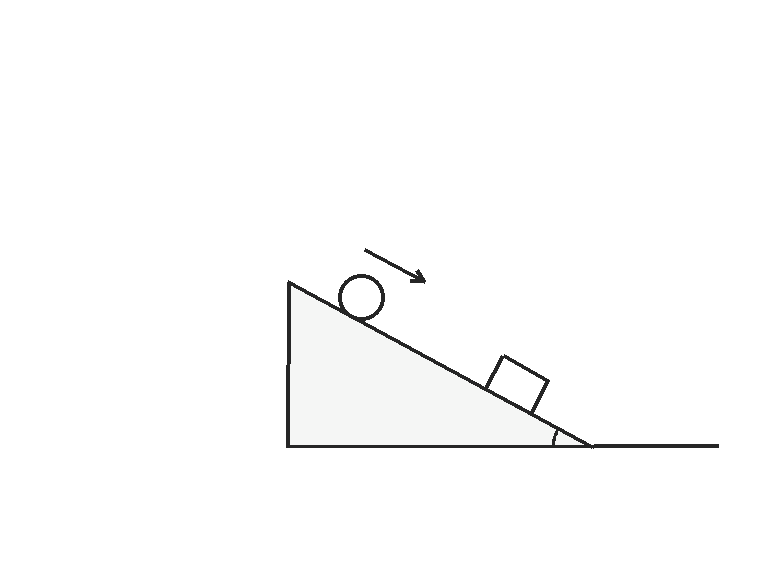ball: (336, 272, 386, 322)
block: (483, 354, 550, 415)
ramp: (285, 282, 595, 448)
